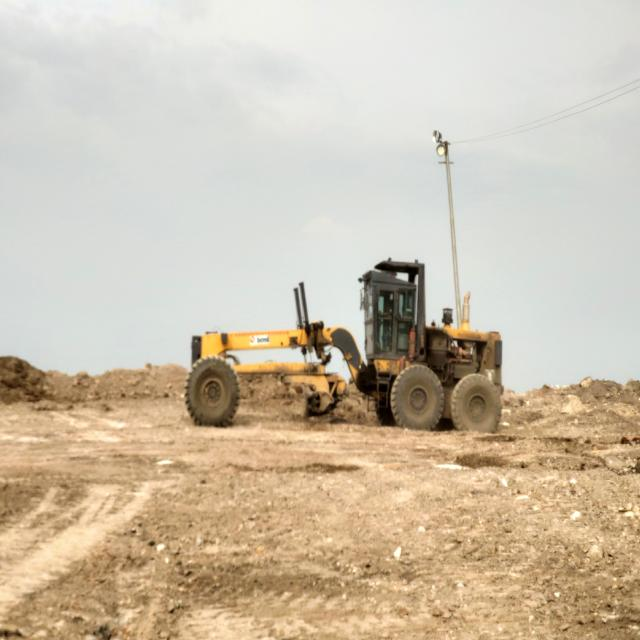buldozerpayloadergrader: (185, 260, 502, 432)
